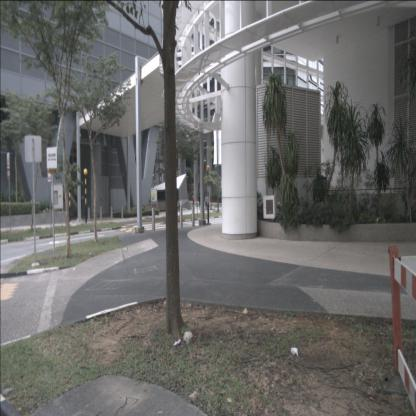human-pedestrian-adult: (204, 194, 208, 211), (198, 194, 202, 210), (192, 193, 195, 208)
